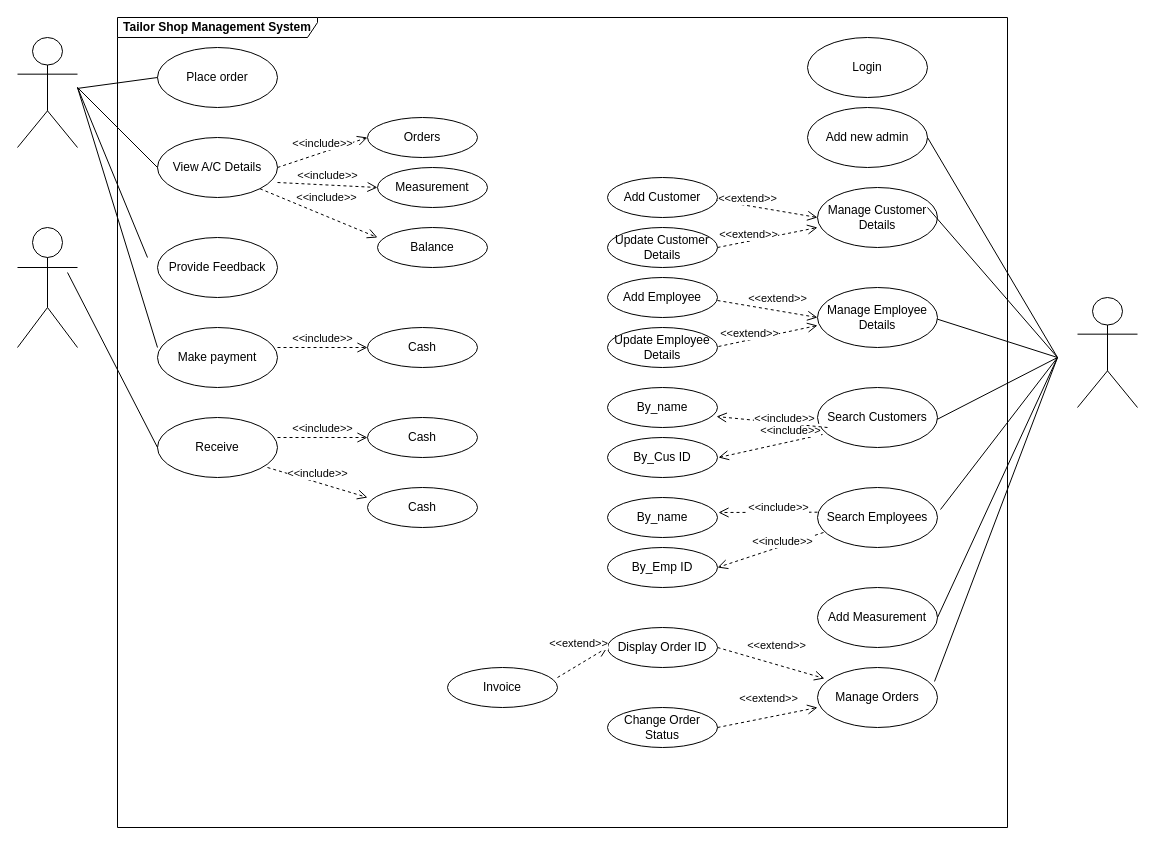
Image size: 1155x845. Some labels were removed from this diagram. The shapes that lost their labels are listed below. From the top down, each one's centre as x and y in pixels, then its label:
At (47,92): "customer".
At (47,287): "Employee".
At (1107,352): "Admin".
